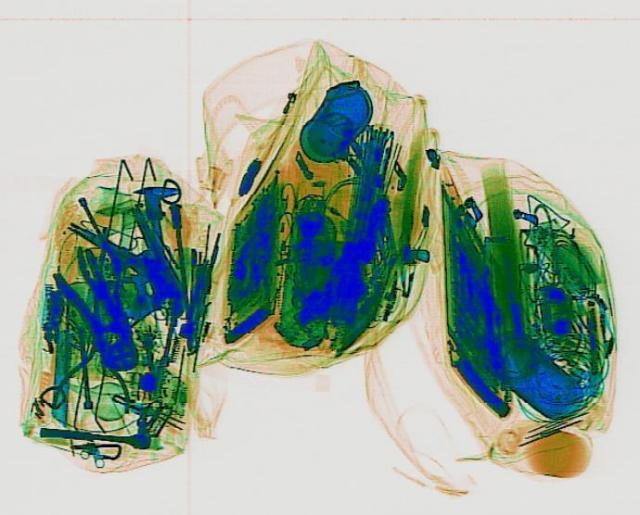Pliers: (47, 258, 151, 376), (70, 238, 136, 319)
